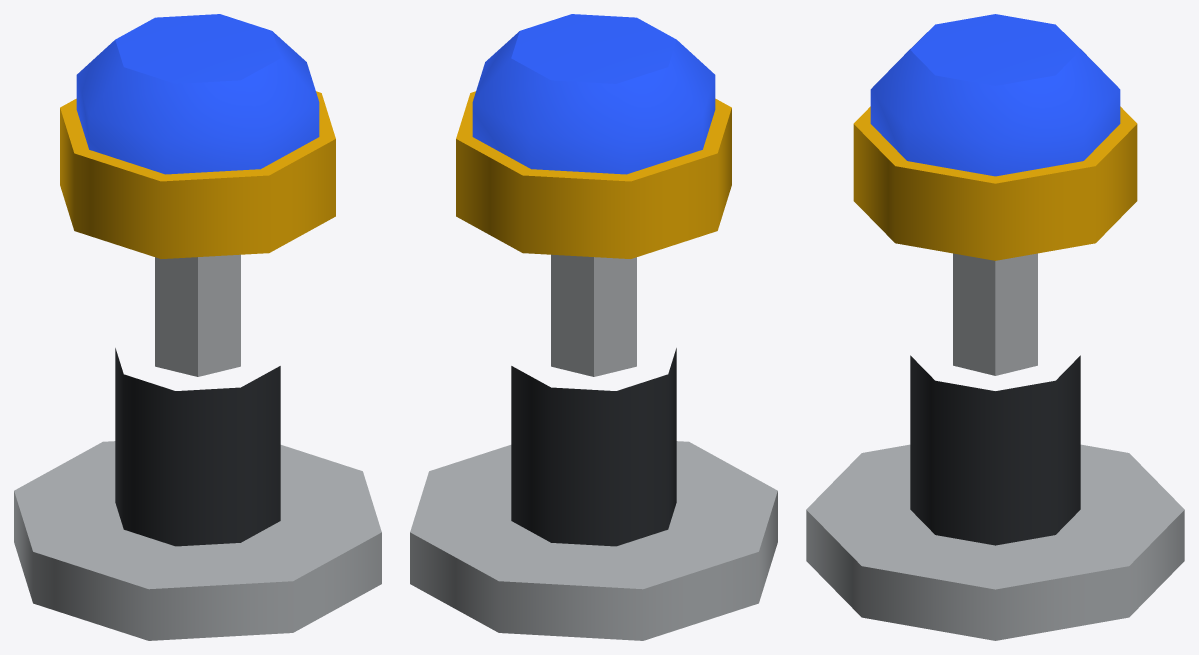
File: taxiway_edge_light.glb
3 views of the same model, side by side, from view 1: azimuth 30°, elevation 25°; view 2: azimuth 150°, elevation 25°; view 3: azimuth 270°, elevation 25° (orthographic).
Visible parts, largest first — view 1: LOD0; view 2: LOD0; view 3: LOD0.
Part boxes in pixels (x1=…): LOD0: x1=14, y1=14, x2=381, y2=640; LOD0: x1=410, y1=14, x2=777, y2=640; LOD0: x1=806, y1=14, x2=1184, y2=640.
Bounding box in the file's own units: 0.2 × 0.3 × 0.2.
4 materials, 1 textured.
